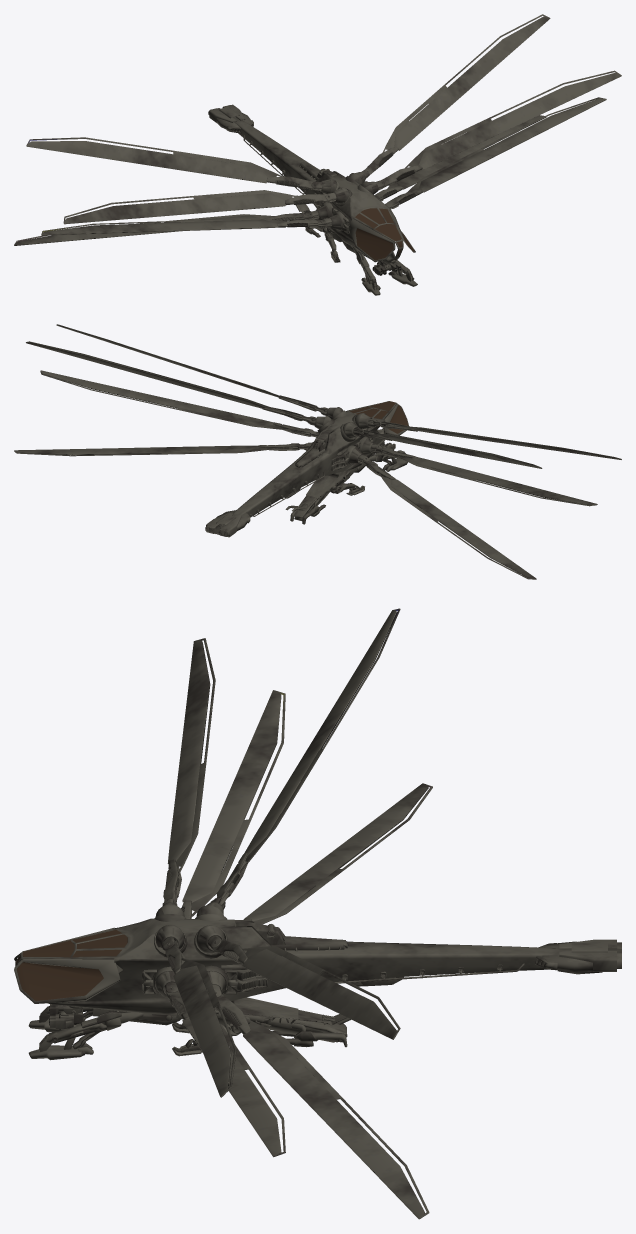
Rendered from heli.obj.
3 renders of one model, top to bottom at view 1: azimuth 30°, elevation 25°; view 2: azimuth 150°, elevation 25°; view 3: azimuth 270°, elevation 25°, orthographic. The views are drawn at different scales.
Parts seen in each view (by area): view 1: DV_8wing_17564FBXASC046Shape; view 2: DV_8wing_17564FBXASC046Shape; view 3: DV_8wing_17564FBXASC046Shape.
Boxes of the visible parts, <box> form: DV_8wing_17564FBXASC046Shape: <box>14,14,621,295</box>; DV_8wing_17564FBXASC046Shape: <box>14,324,621,579</box>; DV_8wing_17564FBXASC046Shape: <box>14,608,621,1219</box>.
Size of the model in its own units: 3750 by 845 by 2080.
42 materials, 39 textured.
